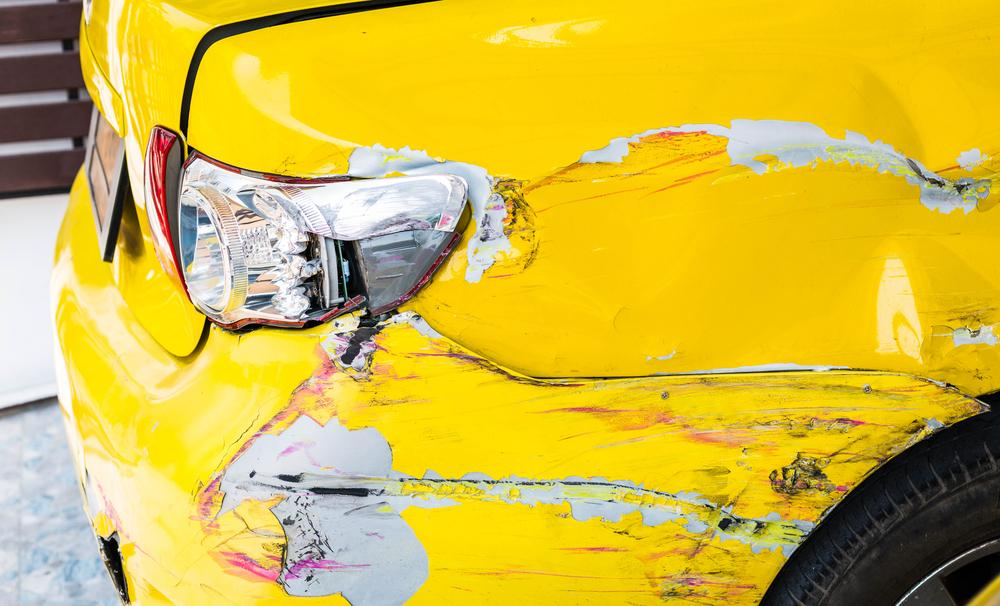dent: (873, 231, 1000, 395), (856, 61, 979, 170)
lamp broken: (179, 148, 467, 327)
scratch: (186, 311, 992, 606), (466, 116, 1000, 284)
